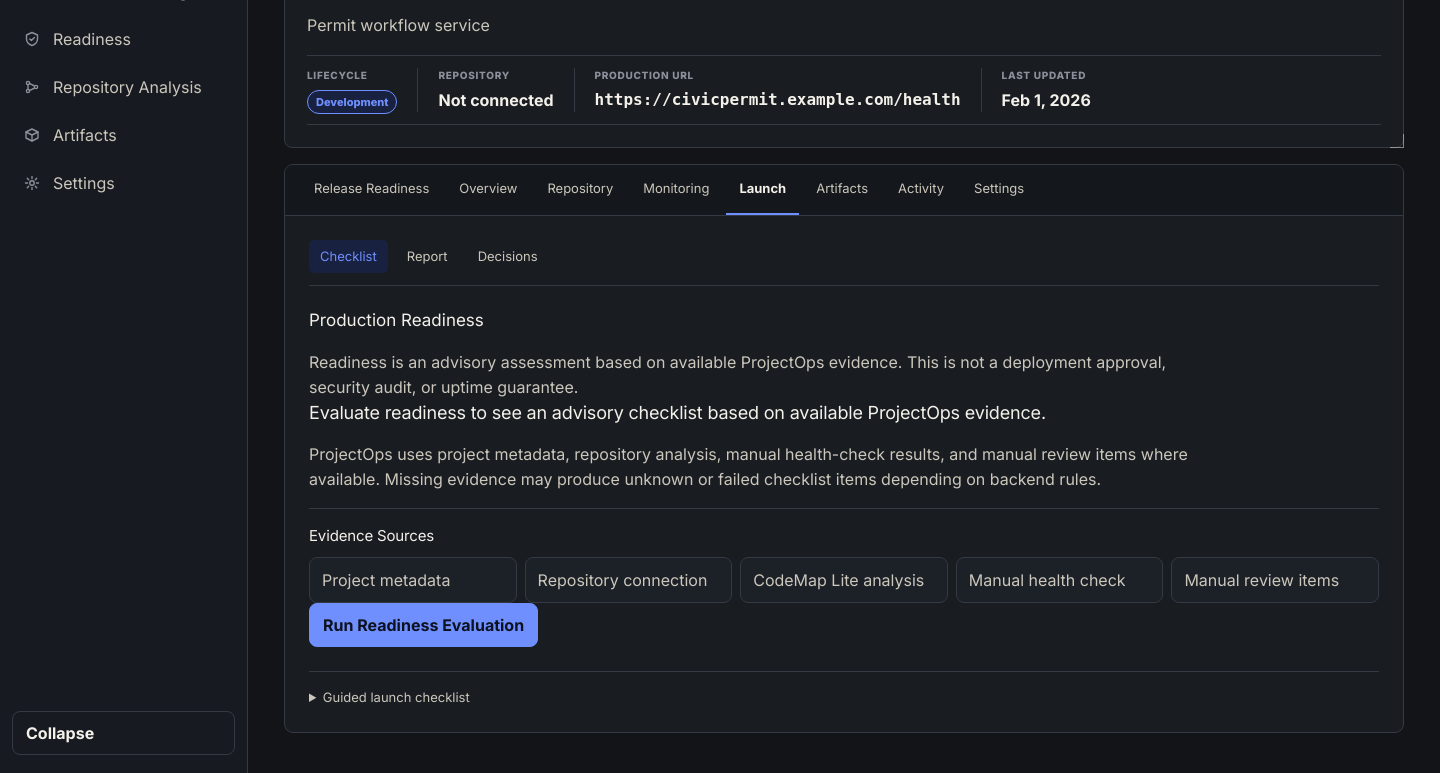
Project detail Production Readiness › shows readiness evaluation errors without hiding Project metadata
The image size is (1440, 773).
(page scrolled)
Click the button "Run Readiness Evaluation" at {"x": 424, "y": 626}, box [309,604,538,648]
(page scrolled)
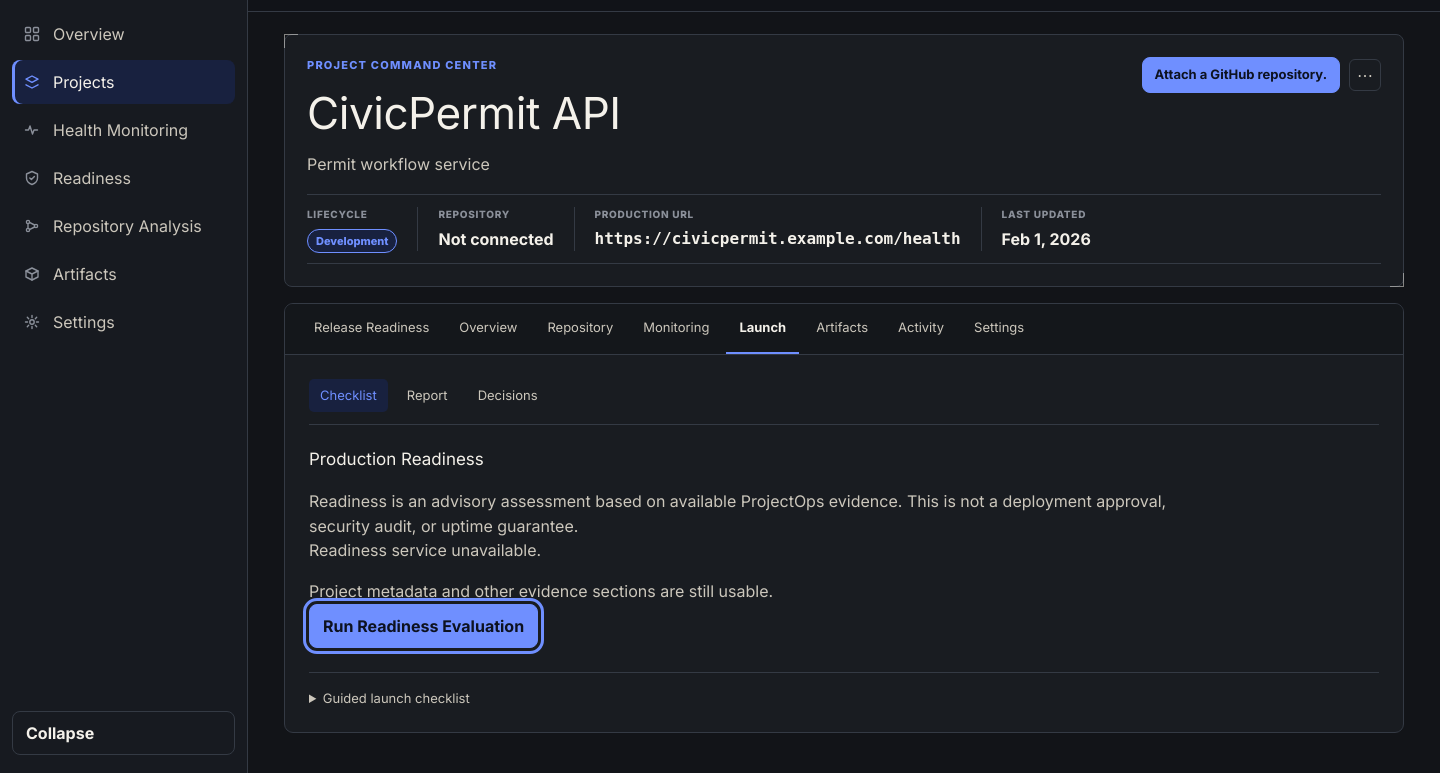
Expected: the heading "CivicPermit API" is shown, [307,80,621,146]
Expected: the message reads "Readiness service unavailable.", [309,540,541,560]
